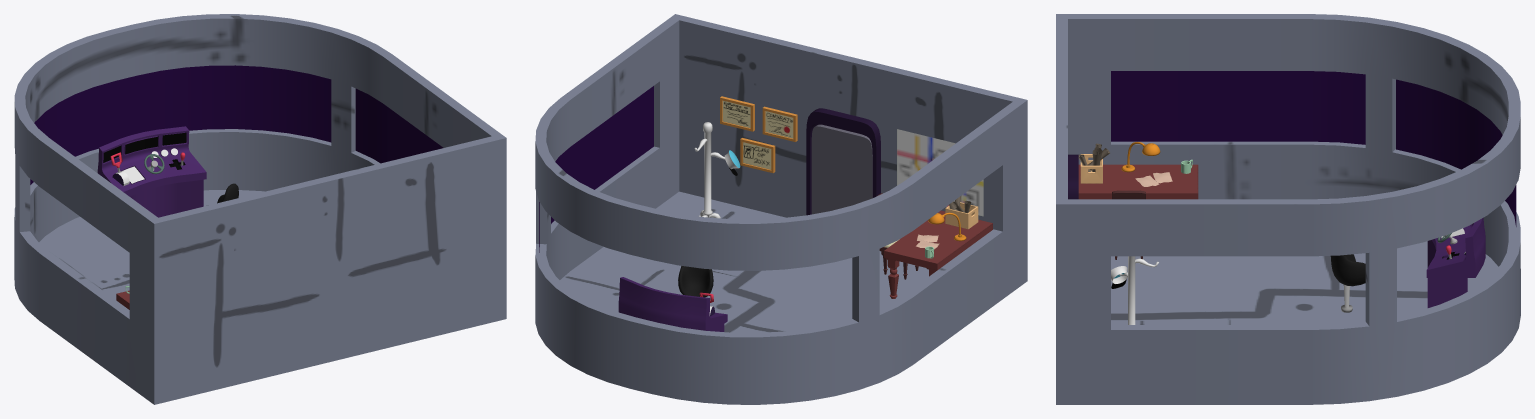
The model's file is traincabinFULL.fbx.
The picture shows the model from 3 angles, left to right: view 1: azimuth 30°, elevation 25°; view 2: azimuth 150°, elevation 25°; view 3: azimuth 270°, elevation 25°; orthographic projection. The views are drawn at different scales.
Parts seen in each view (by area): view 1: Base Room, glasswindow, controls base; view 2: Base Room, traindoor, glasswindow, controls base, desk, PICTUREFRAME, map, coathanger, chairseat, Mapbox; view 3: Base Room, glasswindow, controls base, desk, chairseat, coathanger, Mapbox, traindoor.
Boxes of the visible parts, x1,y1,x2,y2 form: Base Room: [14, 14, 506, 404]; glasswindow: [30, 65, 443, 184]; controls base: [97, 126, 206, 217]; Base Room: [535, 14, 1027, 404]; traindoor: [806, 108, 880, 215]; glasswindow: [539, 86, 653, 252]; controls base: [618, 277, 727, 331]; desk: [884, 210, 992, 298]; PICTUREFRAME: [720, 96, 797, 173]; map: [897, 129, 983, 216]; coathanger: [694, 122, 724, 218]; chairseat: [678, 266, 713, 297]; Mapbox: [945, 202, 978, 229]; Base Room: [1056, 14, 1520, 404]; glasswindow: [1111, 71, 1516, 226]; controls base: [1426, 217, 1485, 307]; desk: [1078, 164, 1198, 199]; chairseat: [1330, 254, 1365, 312]; coathanger: [1119, 256, 1158, 324]; Mapbox: [1080, 154, 1102, 183]; traindoor: [1068, 154, 1078, 199].
Bounding box in the file's own units: 625 × 306 × 644.
